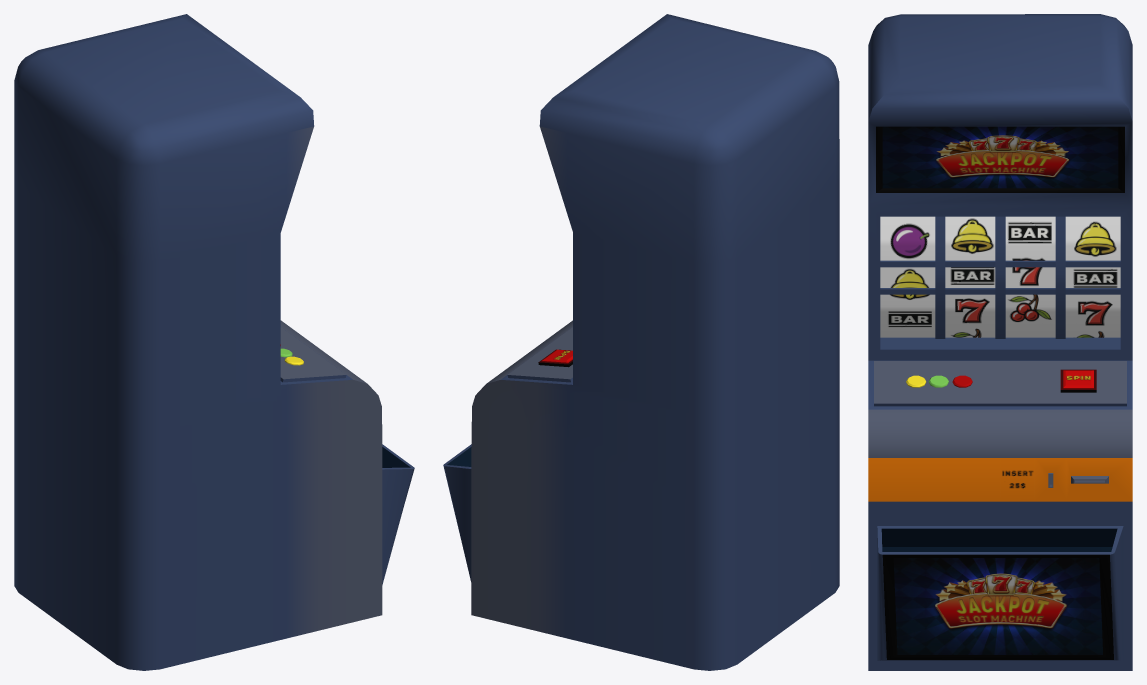
The model's file is slot.fbx.
The picture shows the model from 3 angles, left to right: view 1: azimuth 30°, elevation 25°; view 2: azimuth 150°, elevation 25°; view 3: azimuth 270°, elevation 25°; orthographic projection.
Visible parts, largest first — view 1: Jackpot; view 2: Jackpot; view 3: Jackpot.
Part boxes in pixels (x1,y1,x2,y2): Jackpot: (14, 14, 414, 670); Jackpot: (443, 14, 839, 670); Jackpot: (868, 14, 1132, 670).
Size of the model in its own units: 113 by 199 by 87.66.
